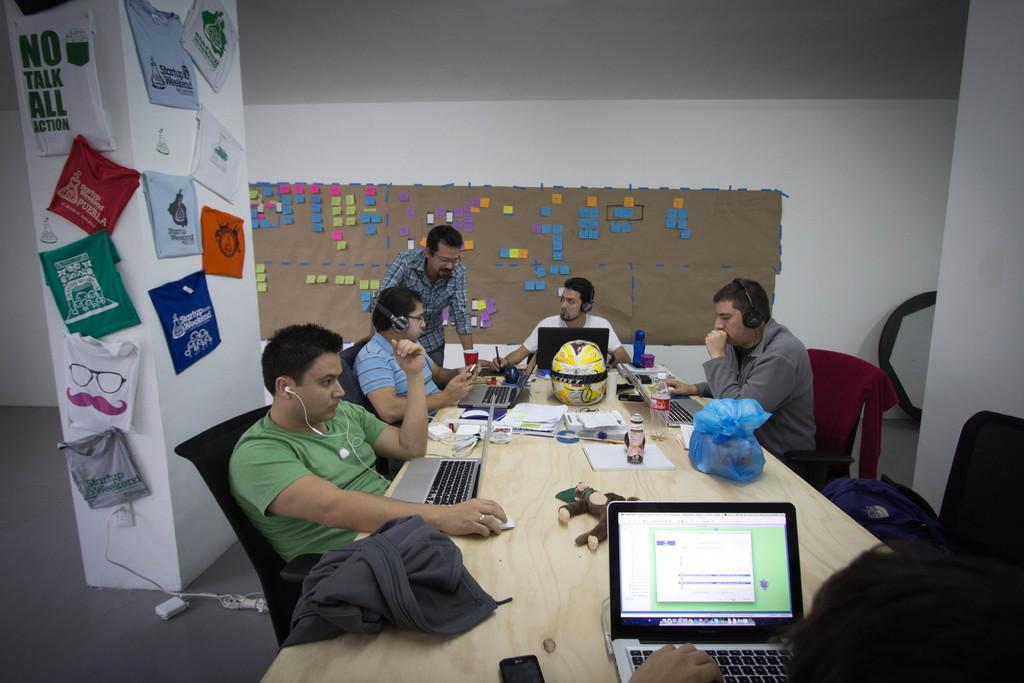Laptop: (602, 502, 806, 666), (391, 396, 493, 507), (620, 365, 702, 428), (457, 352, 537, 409), (538, 328, 609, 368)
